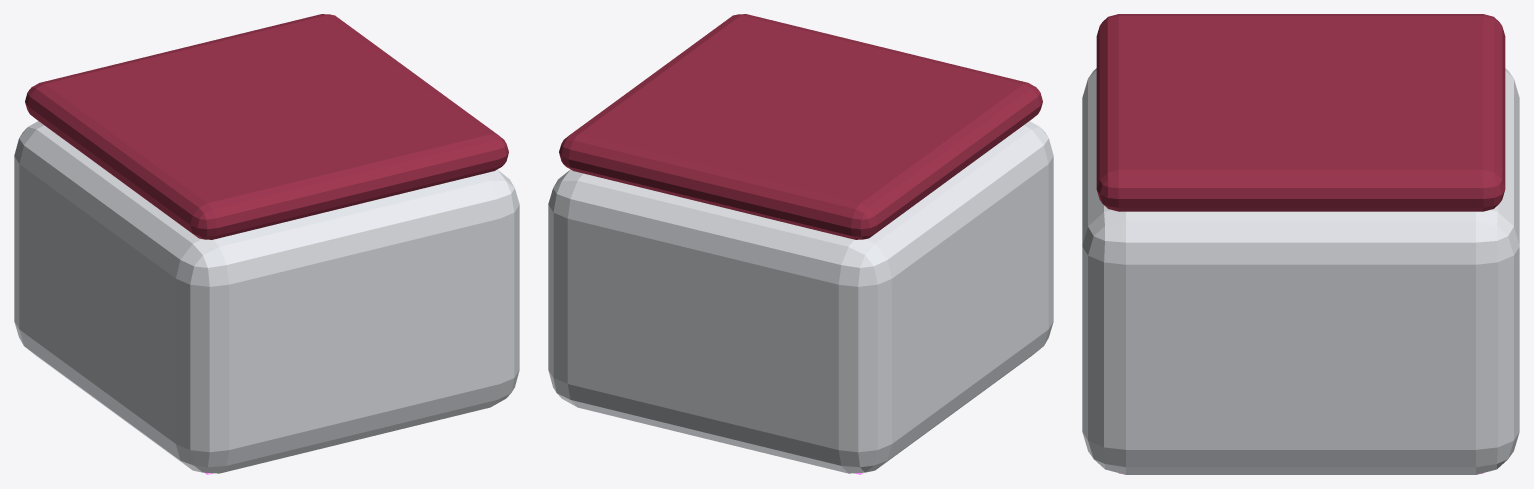
Rendered from ottoman_cube_glow.glb.
3 views of the same model, side by side, from view 1: azimuth 30°, elevation 25°; view 2: azimuth 150°, elevation 25°; view 3: azimuth 270°, elevation 25° (orthographic). The views are drawn at different scales.
Visible parts, largest first — view 1: GD_ottoman_cube_glow__m0, GD_ottoman_cube_glow__m2; view 2: GD_ottoman_cube_glow__m0, GD_ottoman_cube_glow__m2; view 3: GD_ottoman_cube_glow__m0, GD_ottoman_cube_glow__m2.
Part boxes in pixels (<box>): GD_ottoman_cube_glow__m0: <box>14,121,519,473</box>; GD_ottoman_cube_glow__m2: <box>25,14,508,239</box>; GD_ottoman_cube_glow__m0: <box>548,121,1053,473</box>; GD_ottoman_cube_glow__m2: <box>559,14,1042,239</box>; GD_ottoman_cube_glow__m0: <box>1082,68,1519,474</box>; GD_ottoman_cube_glow__m2: <box>1096,14,1505,211</box>.
Bounding box in the file's own units: 0.6 × 0.46 × 0.6.
